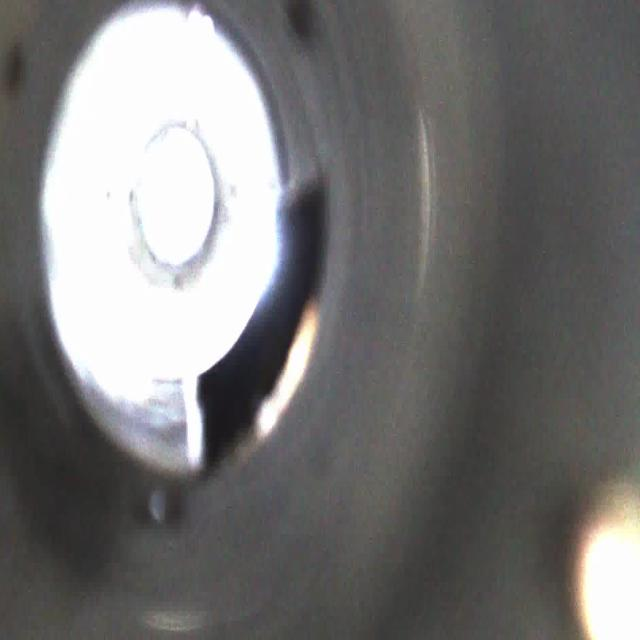hole: (181, 161, 347, 520)
